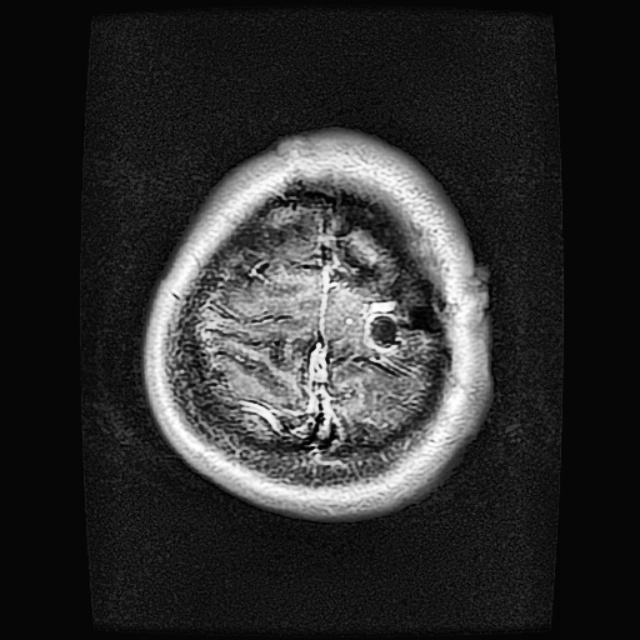Glioma: (325, 207, 437, 359)
